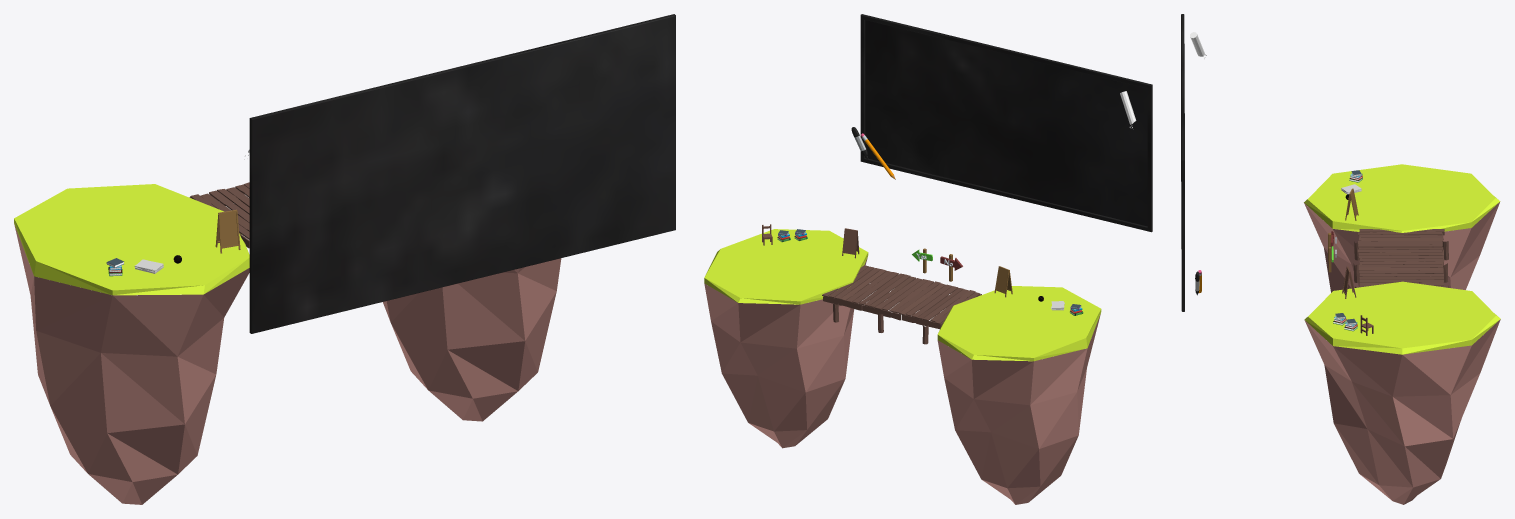
Rendered from IslandMaterials.glb.
The picture shows the model from 3 angles, left to right: view 1: azimuth 30°, elevation 25°; view 2: azimuth 150°, elevation 25°; view 3: azimuth 270°, elevation 25°; orthographic projection. The views are drawn at different scales.
Parts seen in each view (by area): view 1: NoRigid, Rigid; view 2: Rigid, NoRigid; view 3: Rigid, NoRigid.
Part boxes in pixels (x1,y1,x2,y2): NoRigid: (106, 14, 675, 333); Rigid: (14, 182, 561, 504); Rigid: (704, 229, 1101, 504); NoRigid: (762, 14, 1152, 315); Rigid: (1304, 164, 1500, 504); NoRigid: (1181, 14, 1373, 335).
Size of the model in its own units: 186 by 166 by 135.
31 materials, 2 textured.
